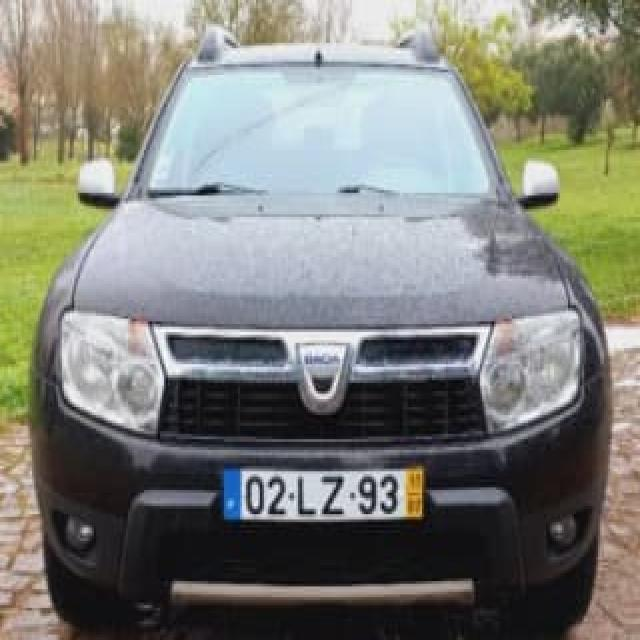portuguese-license-plates: (217, 461, 426, 527)
